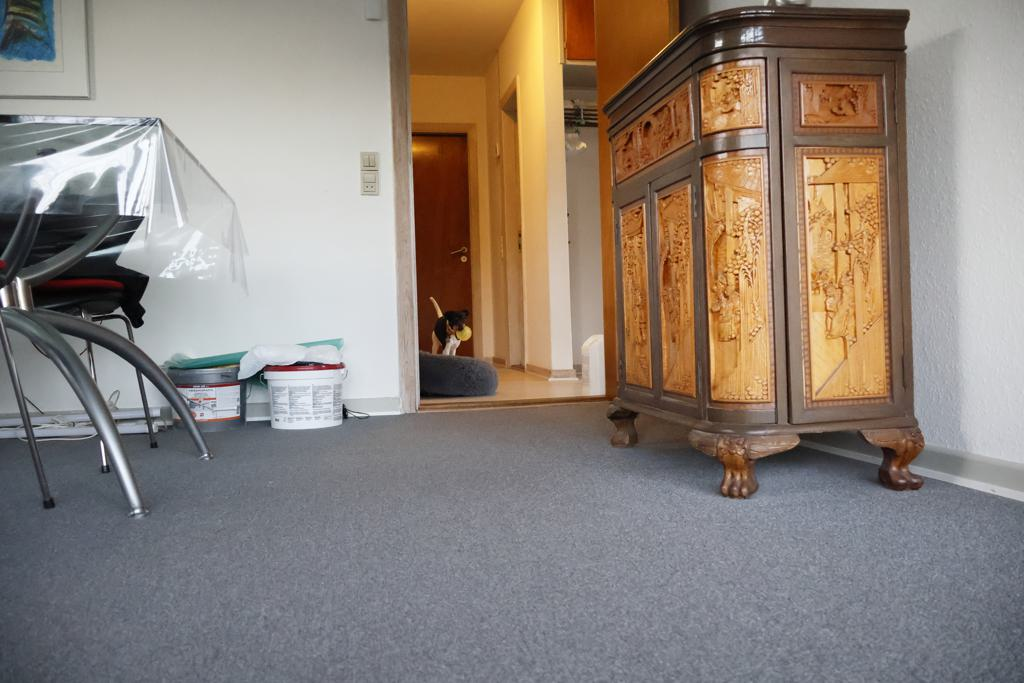Dog: (424, 292, 473, 360)
